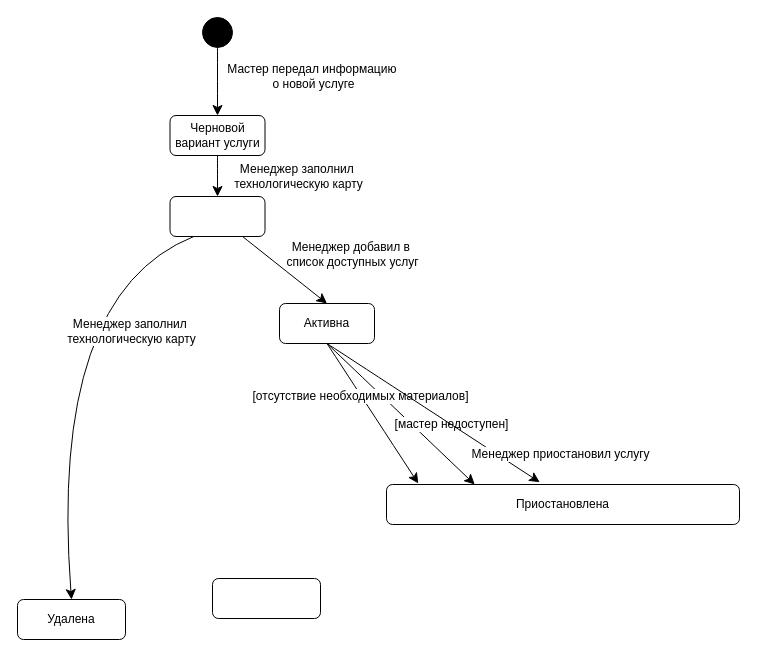
Image size: 757x657. Some labels were removed from this diagram. Here are the shapes that lost their labels. From the top down, the box of each, then its label:
(169, 196, 265, 236): Создана
(212, 578, 320, 618): Обновляется
